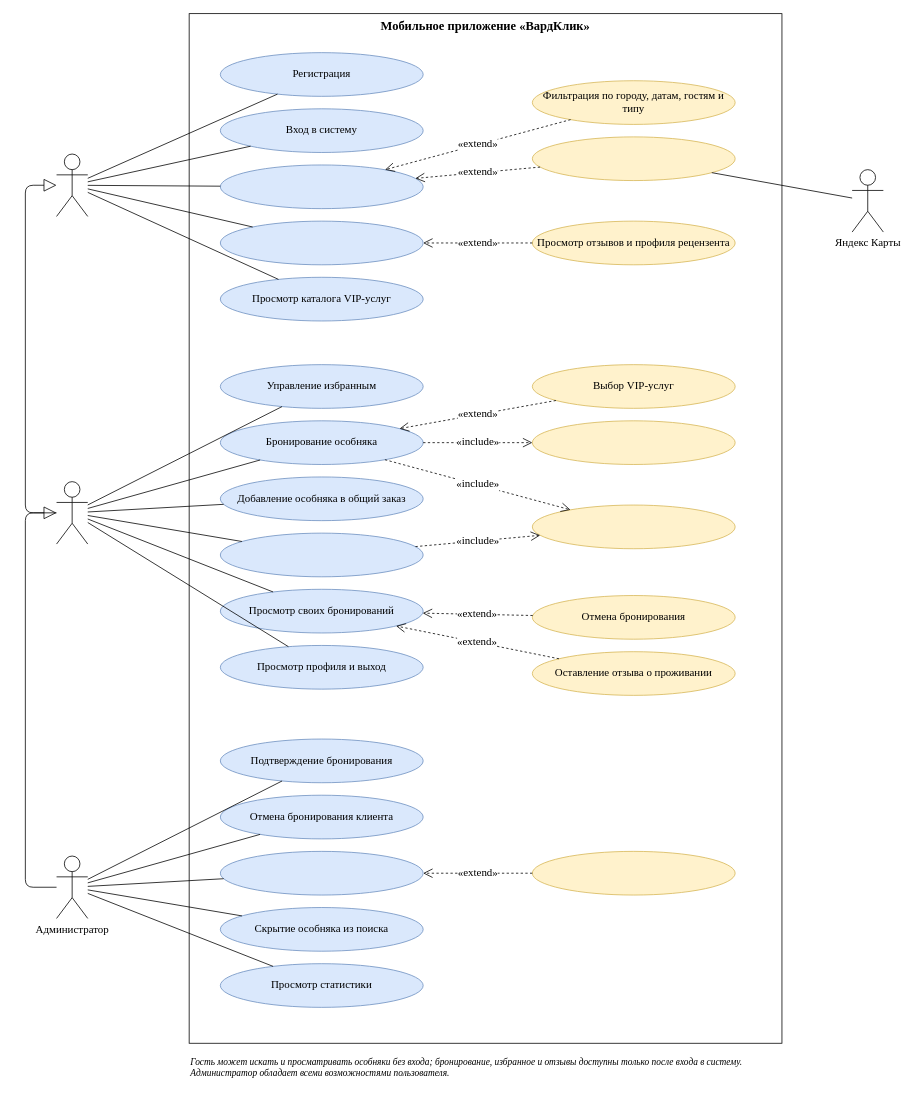
This 914x1096 diagram has some shape labels left out. The centre of each missing label's shape, as x and y in pixels:
"Выбор дат и количества гостей" goes at [633,442].
"Гость" goes at [72,184].
"Добавление особняка" goes at [321,873].
"Оформление общего заказа" goes at [321,554].
"Поиск особняков" goes at [321,186].
"Пользователь" goes at [72,512].
"Просмотр карточки особняка" goes at [321,242].
"Просмотр особняков на карте" goes at [633,158].
"Расчёт стоимости (скидки, VIP)" goes at [633,526].
"Редактирование особняка" goes at [633,873].
